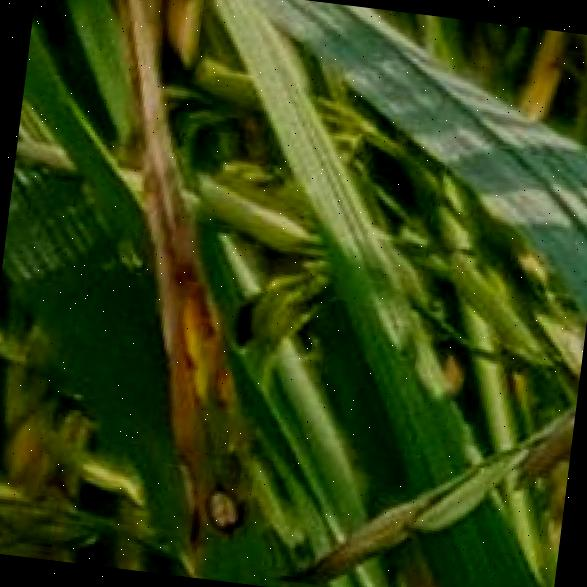Bacteria_Leaf_Blight: (27, 0, 310, 528)
